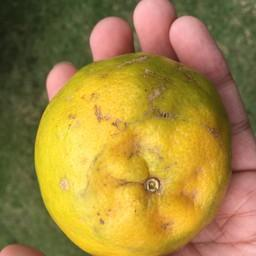Bad_orange: (30, 55, 229, 256)
